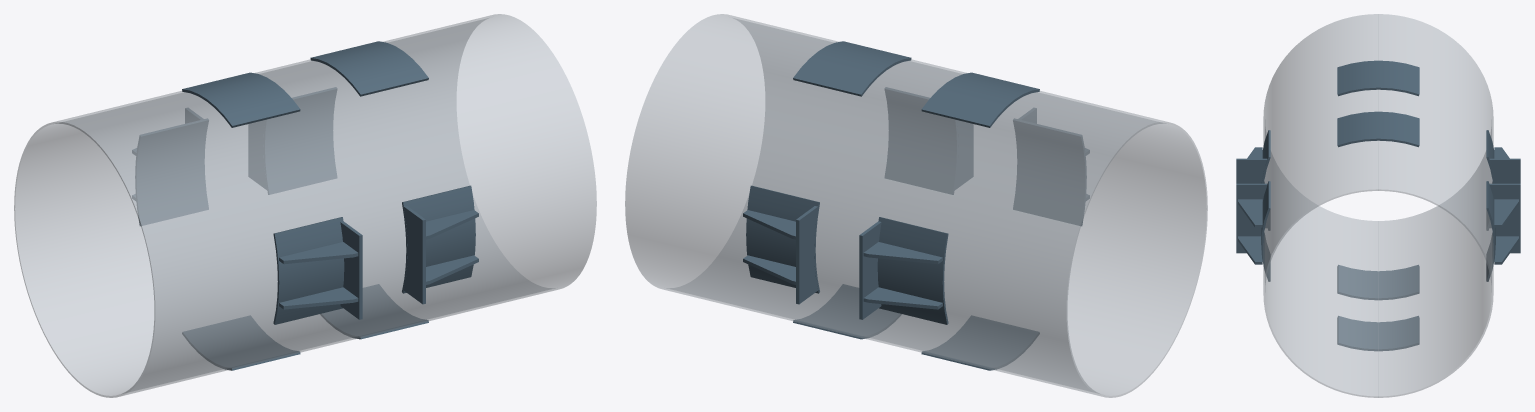
Rendered from TS-663.00.00-11-opora-dn1220.glb.
The picture shows the model from 3 angles, left to right: view 1: azimuth 30°, elevation 25°; view 2: azimuth 150°, elevation 25°; view 3: azimuth 270°, elevation 25°; orthographic projection. The views are drawn at different scales.
Visible parts, largest first — view 1: truba, det_16, det_12, det_8, det_4, det_18, det_17, det_20, det_19, det_1, det_5, det_9 (+4 smaller); view 2: truba, det_8, det_4, det_16, det_12, det_18, det_17, det_20, det_19, det_9, det_13, det_1 (+4 smaller); view 3: truba, det_17, det_18, det_19, det_20, det_1, det_9, det_5, det_13, det_4, det_12, det_2 (+5 smaller).
Part boxes in pixels (<box>): truba: <box>14,14,596,397</box>; det_16: <box>135,118,208,226</box>; det_12: <box>264,87,336,194</box>; det_8: <box>273,217,344,324</box>; det_4: <box>402,185,475,293</box>; det_18: <box>182,72,300,127</box>; det_17: <box>310,41,428,96</box>; det_20: <box>182,315,300,370</box>; det_19: <box>320,284,428,339</box>; det_1: <box>404,206,425,304</box>; det_5: <box>340,221,362,319</box>; det_9: <box>248,120,266,189</box>; truba: <box>625,14,1207,397</box>; det_8: <box>1013,118,1086,226</box>; det_4: <box>885,87,957,194</box>; det_16: <box>877,217,948,324</box>; det_12: <box>746,185,819,293</box>; det_18: <box>921,72,1039,127</box>; det_17: <box>793,41,911,96</box>; det_20: <box>921,315,1039,370</box>; det_19: <box>793,284,901,339</box>; det_9: <box>796,206,817,304</box>; det_13: <box>859,221,881,319</box>; det_1: <box>955,120,973,189</box>; truba: <box>1263,14,1493,397</box>; det_17: <box>1337,111,1419,147</box>; det_18: <box>1337,60,1419,96</box>; det_19: <box>1337,316,1419,351</box>; det_20: <box>1337,265,1419,300</box>; det_1: <box>1236,183,1267,253</box>; det_9: <box>1489,183,1520,253</box>; det_5: <box>1236,158,1267,227</box>; det_13: <box>1489,158,1520,227</box>; det_4: <box>1261,181,1270,281</box>; det_12: <box>1486,181,1495,281</box>; det_2: <box>1238,199,1262,227</box>.
Bounding box in the file's own units: 2200 × 1244 × 1506.
